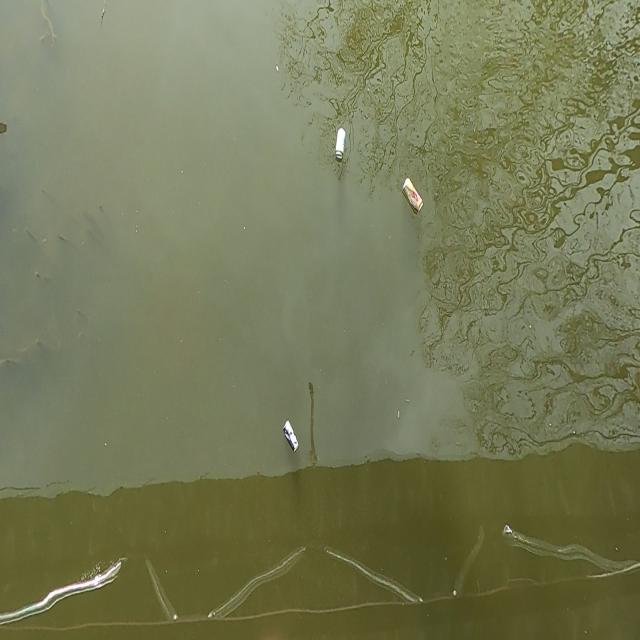Non plastique: (402, 176, 426, 218), (282, 418, 300, 456), (336, 128, 346, 159)
